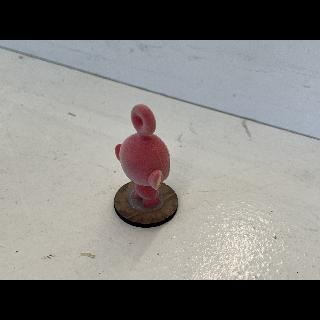teletubby: (115, 104, 170, 207)
